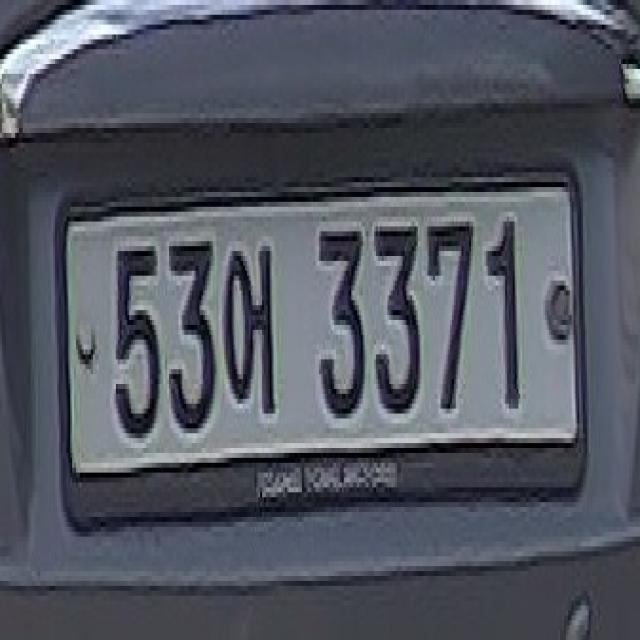1: (477, 197, 528, 438)
3: (163, 226, 226, 448), (372, 207, 429, 433), (314, 206, 368, 414)
5: (97, 236, 167, 448)
7: (420, 197, 482, 458)
eo: (212, 231, 290, 453)
license_plate: (49, 182, 589, 502)
